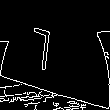L_S: (43, 27, 67, 83)
